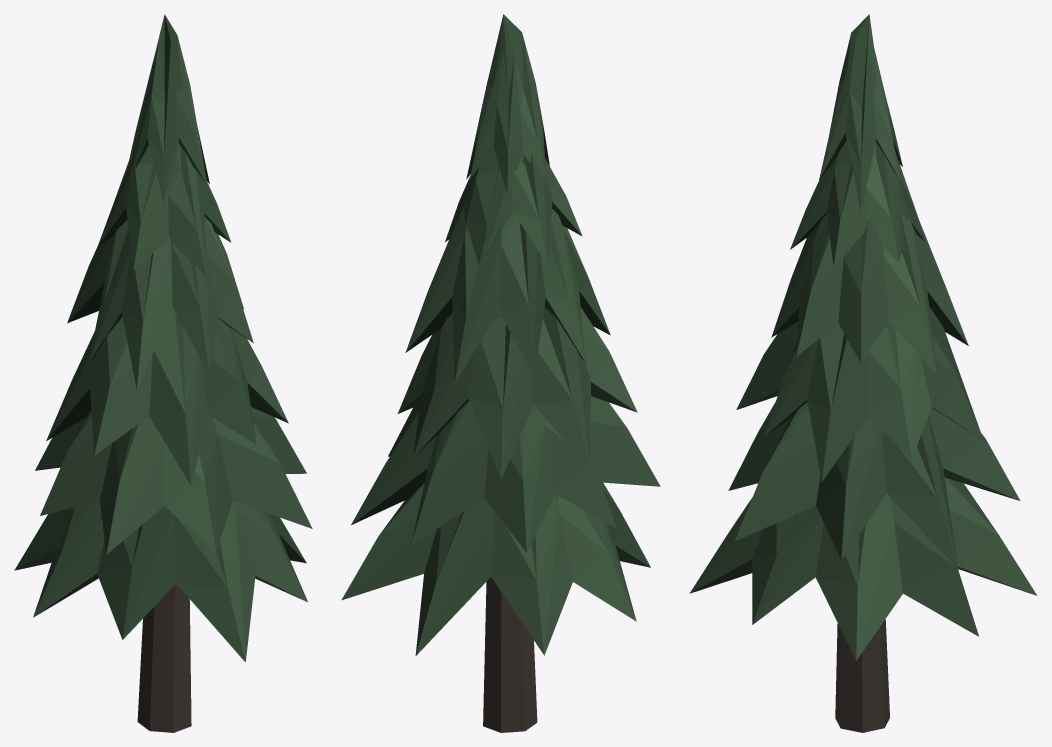
File: Spruce2.glb
3 views of the same model, side by side, from view 1: azimuth 30°, elevation 25°; view 2: azimuth 150°, elevation 25°; view 3: azimuth 270°, elevation 25° (orthographic).
Visible parts, largest first — view 1: Spruce2; view 2: Spruce2; view 3: Spruce2.
Part boxes in pixels (x1,y1,x2,y2): Spruce2: [14, 14, 312, 732]; Spruce2: [341, 14, 660, 732]; Spruce2: [689, 14, 1037, 732].
Bounding box in the file's own units: 0.3979 × 1 × 0.4458.
